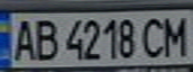1: (100, 16, 121, 60)
2: (81, 16, 103, 61)
4: (60, 16, 84, 61)
8: (115, 16, 139, 60)
A: (6, 16, 39, 62)
B: (30, 16, 60, 62)
C: (139, 15, 169, 60)
M: (160, 12, 193, 57)
